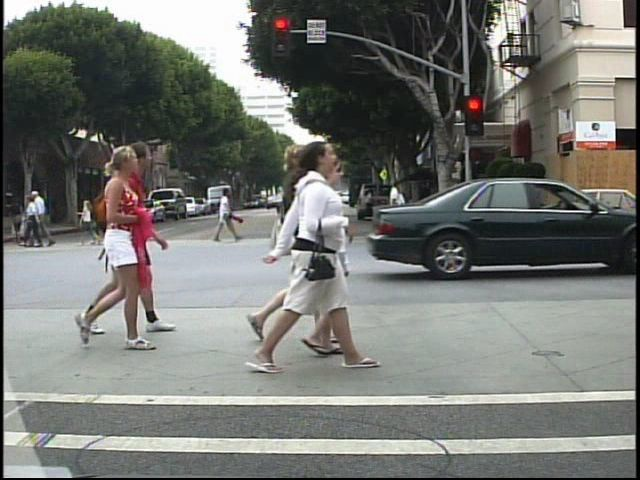person: (67, 146, 163, 355), (277, 136, 355, 377), (236, 146, 315, 355), (304, 159, 381, 371), (121, 139, 175, 337), (385, 177, 413, 240), (214, 184, 237, 248), (35, 185, 57, 251), (275, 185, 298, 243), (22, 196, 46, 250), (360, 187, 376, 223)
